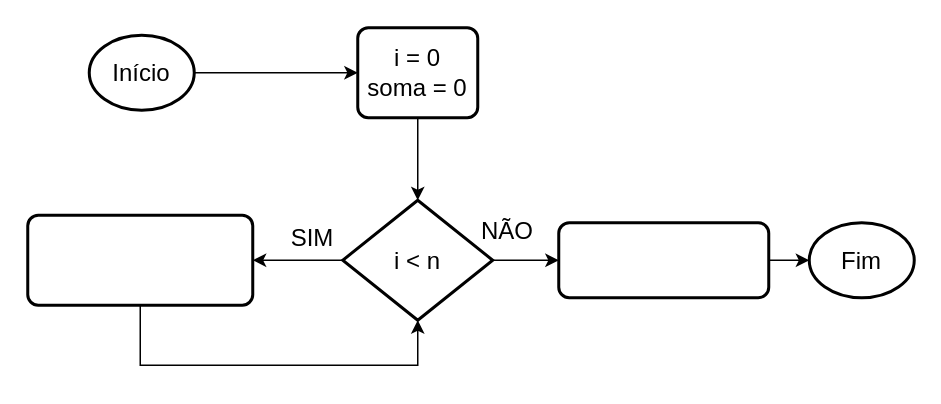
This 941x404 diagram has some shape labels left out. The shapes that lost their labels are listed below. From the top down, each one's box as (x1, y1, x2, y2) in pixels, then its label:
(26, 213, 254, 306): i = i + 1 soma = soma + i
(556, 220, 770, 298): Retorne a soma
